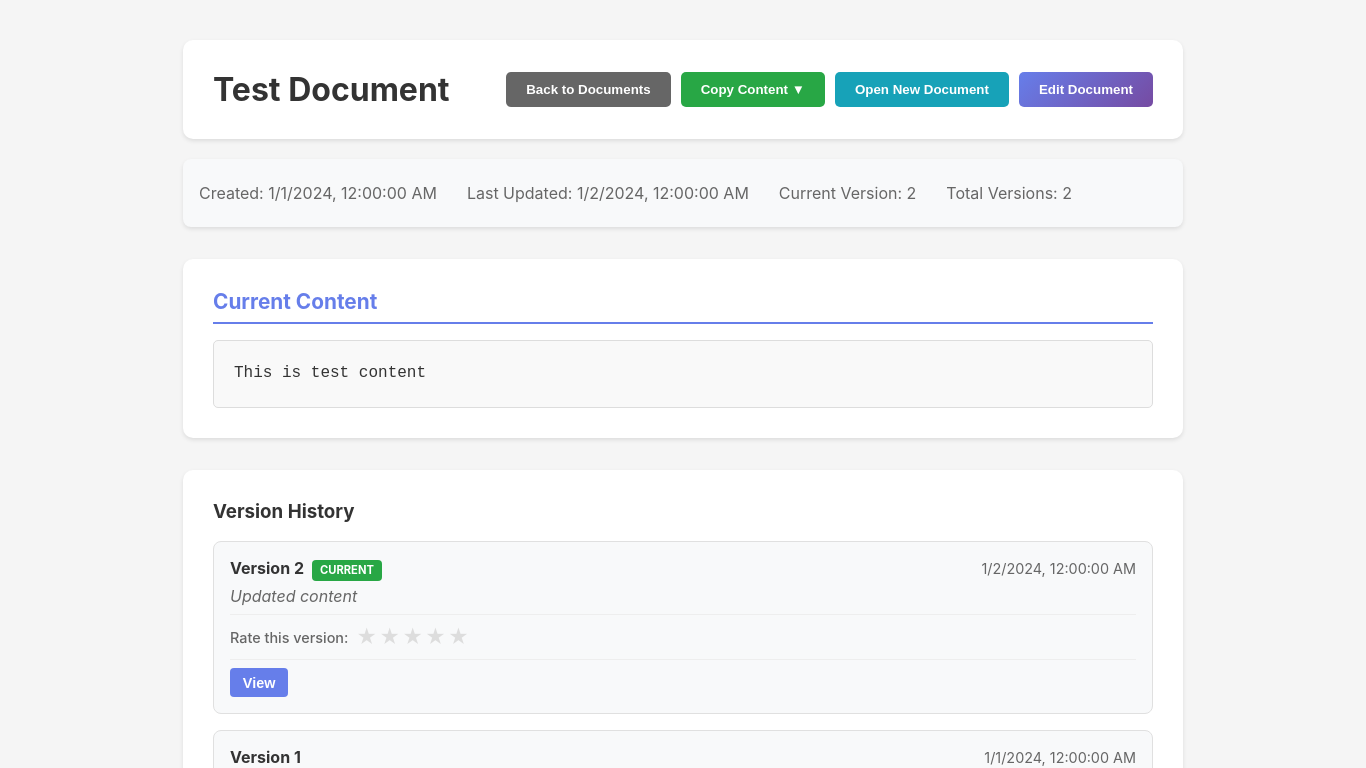
Scenario: ViewDocument Component › toggles version content visibility when View/Hide button is clicked
Check: the heading "Test Document" is shown, box 213,70 -> 450,109
// Click on the first View button (for version 2)
Click the button "View" at (259, 683), box 230,668 -> 288,697
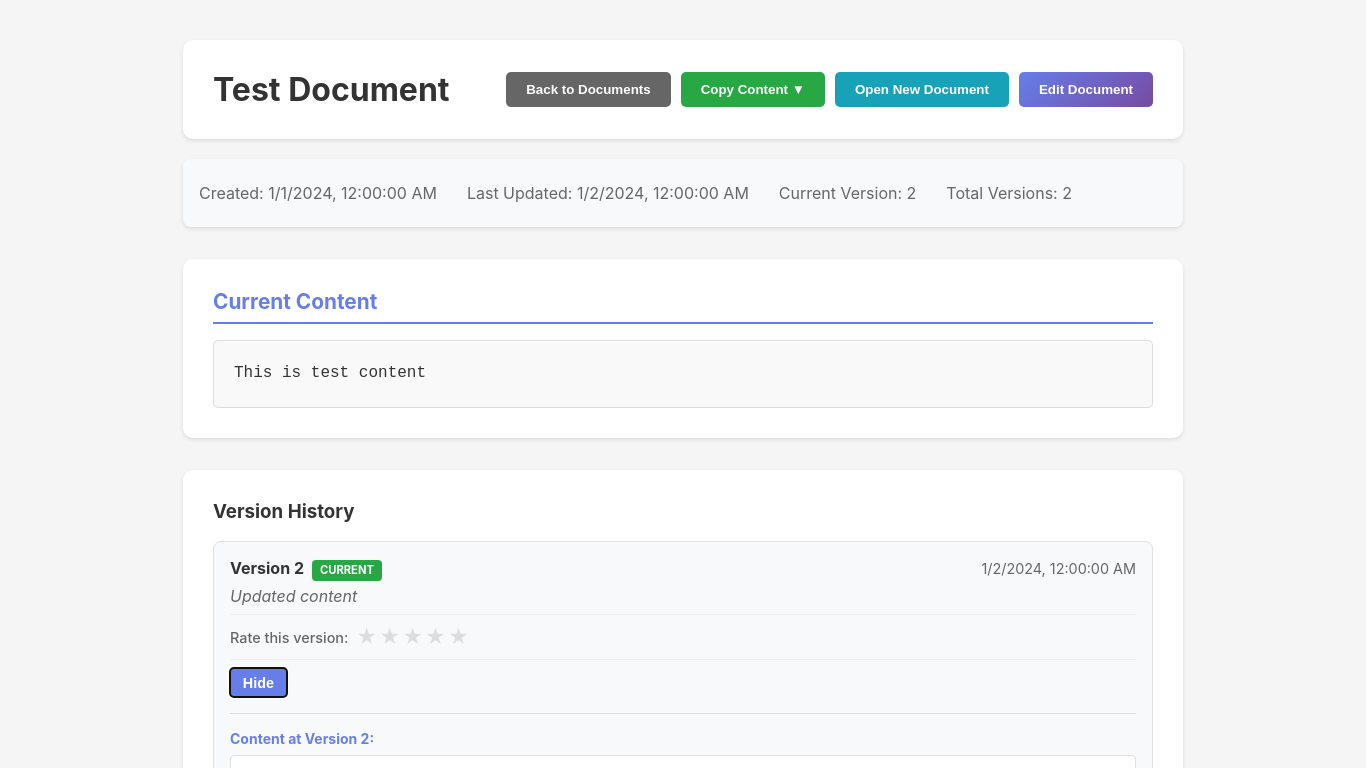
Check: the heading "Content at Version 2:" is shown, box 230,730 -> 374,747
Check: the button "Hide" is shown
// Click Hide button
Click the button "Hide" at (258, 683), box 230,668 -> 287,697
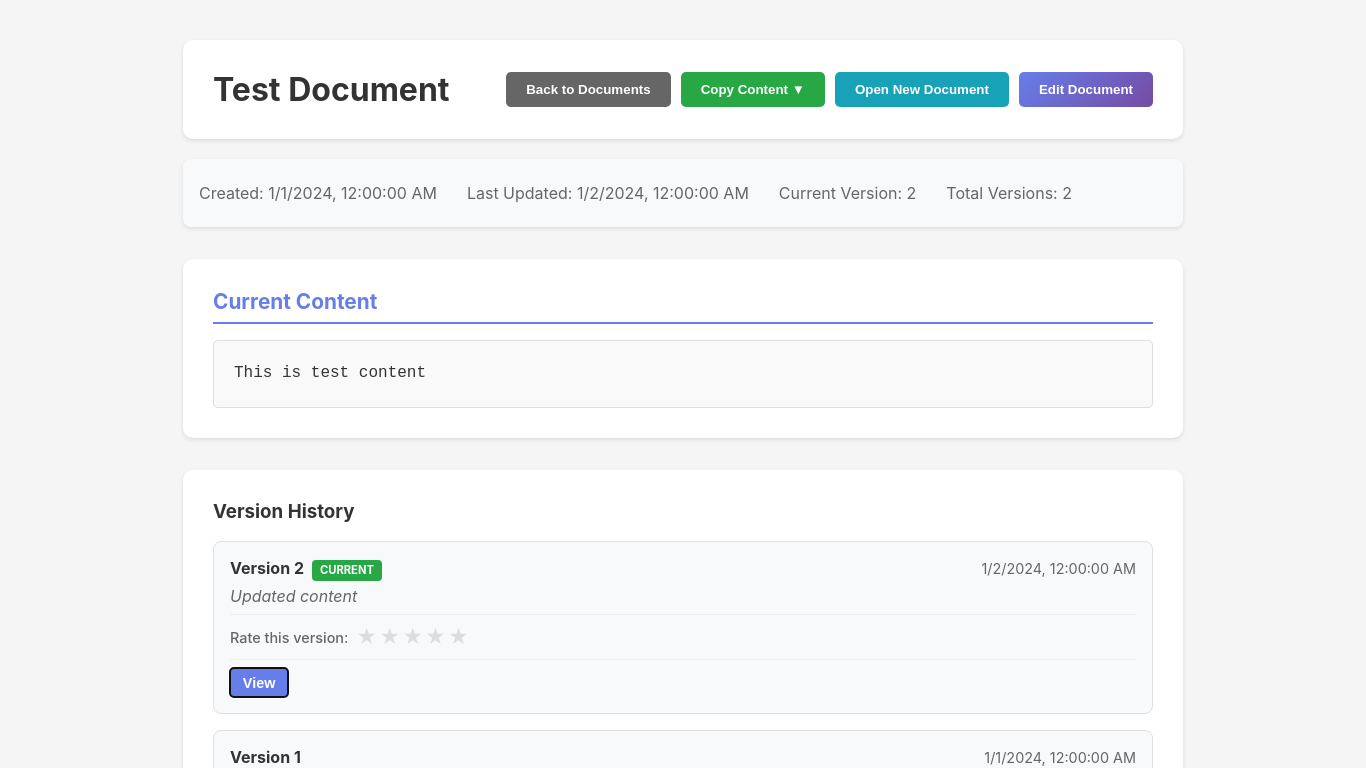
Check: the heading "Content at Version 2:" is gone
